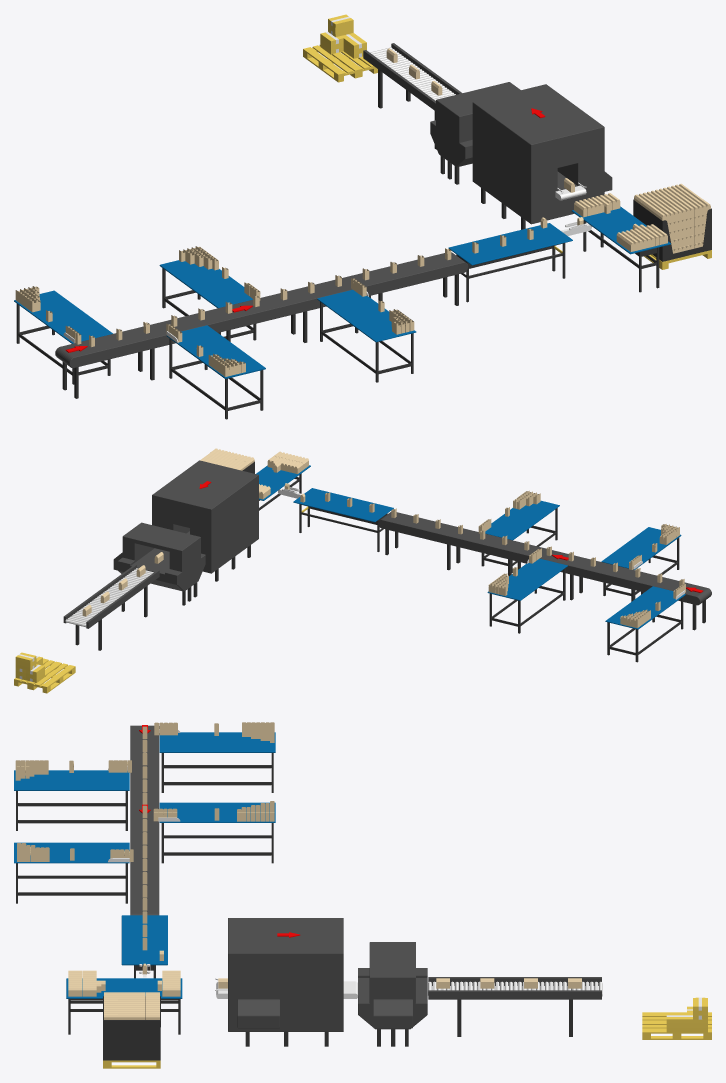
3 renders of one model, top to bottom at view 1: azimuth 30°, elevation 25°; view 2: azimuth 150°, elevation 25°; view 3: azimuth 270°, elevation 25°, orthographic. The views are drawn at different scales.
Visible parts, largest first — view 1: assembly_Material #20_0, assembly_Material #19_0, assembly_Material #12_0, assembly_Material #11_0, assembly_Material #1_0, assembly_Material #24_0; view 2: assembly_Material #20_0, assembly_Material #19_0, assembly_Material #12_0, assembly_Material #11_0, assembly_Material #1_0, assembly_Material #24_0; view 3: assembly_Material #20_0, assembly_Material #19_0, assembly_Material #12_0, assembly_Material #11_0, assembly_Material #1_0, assembly_Material #24_0.
Boxes of the visible parts, <box> form: assembly_Material #20_0: <box>55,43,612,368</box>; assembly_Material #19_0: <box>14,206,670,378</box>; assembly_Material #12_0: <box>15,48,710,376</box>; assembly_Material #11_0: <box>16,69,711,419</box>; assembly_Material #1_0: <box>303,14,711,269</box>; assembly_Material #24_0: <box>63,47,591,343</box>; assembly_Material #20_0: <box>63,460,711,628</box>; assembly_Material #19_0: <box>256,465,685,629</box>; assembly_Material #12_0: <box>82,448,685,628</box>; assembly_Material #11_0: <box>75,461,705,662</box>; assembly_Material #1_0: <box>14,506,308,693</box>; assembly_Material #24_0: <box>65,487,684,627</box>; assembly_Material #20_0: <box>130,725,601,1031</box>; assembly_Material #19_0: <box>14,732,275,998</box>; assembly_Material #12_0: <box>15,722,581,1019</box>; assembly_Material #11_0: <box>16,753,572,1060</box>; assembly_Material #1_0: <box>103,997,711,1068</box>; assembly_Material #24_0: <box>107,729,602,998</box>.
Size of the model in its own units: 12.39 by 1.82 by 12.07.
